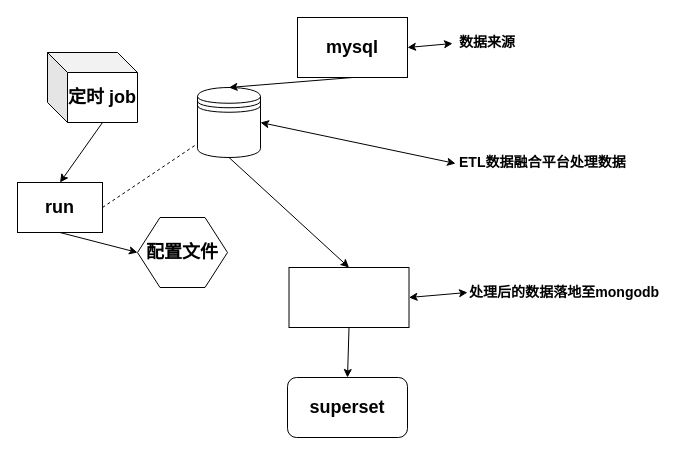
Image size: 695x455. Some labels were removed from this diagram. The shapes that lost their labels are listed below. From the top down, each one's centre as x and y in pixels, then its label:
point (228, 122): ETL
point (348, 297): mongodb
